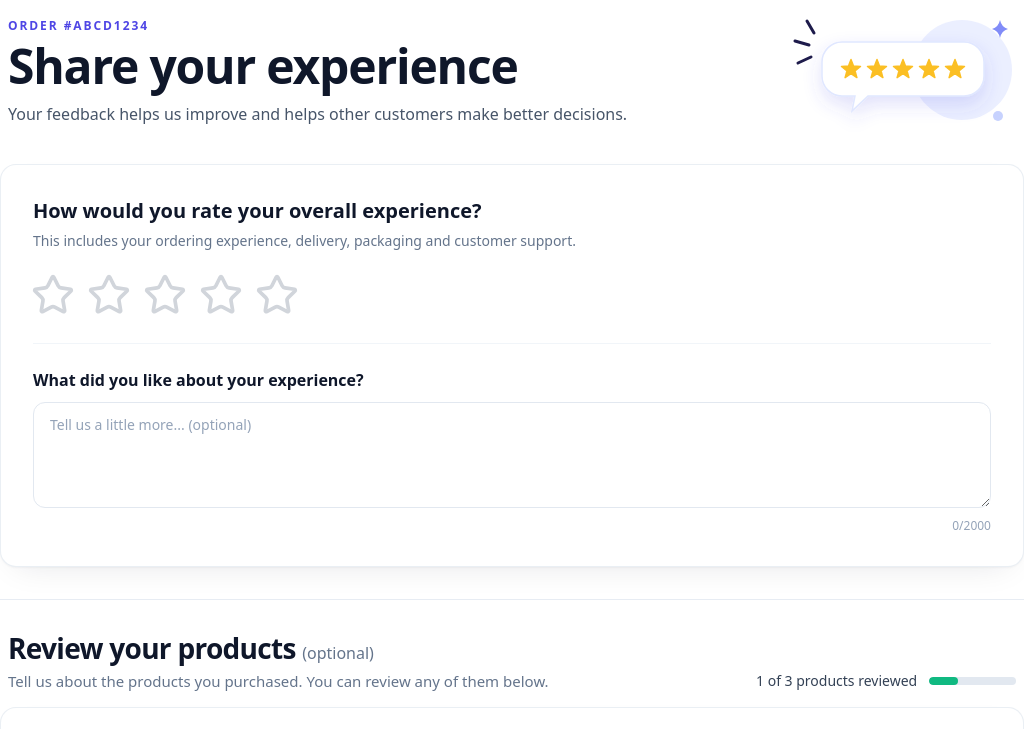
Test case: ReviewForm › offers tags that match the star rating and drops ones that no longer fit
Expected: the text "What stood out?" is not shown
Expected: the button "Fast delivery" is not shown
Click the button named "5 stars" at (277, 295), box [253,271,301,319]
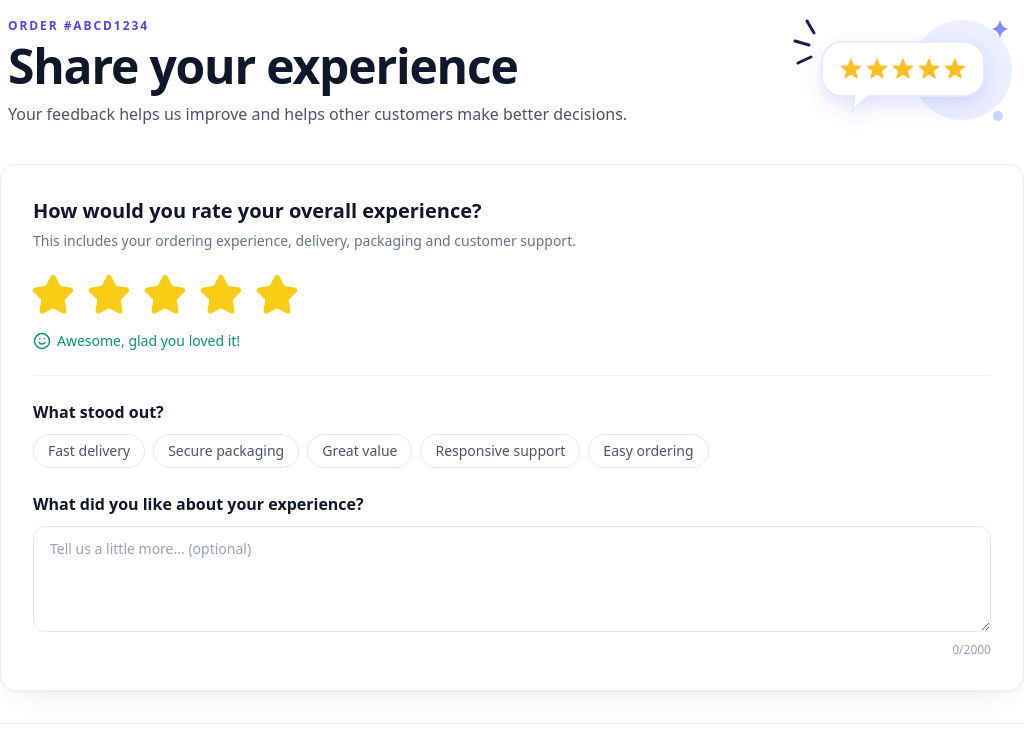
Result: the text "What stood out?" is shown at [33,401,164,423]
Click the button "Fast delivery" at (89, 451), box [33,434,145,468]
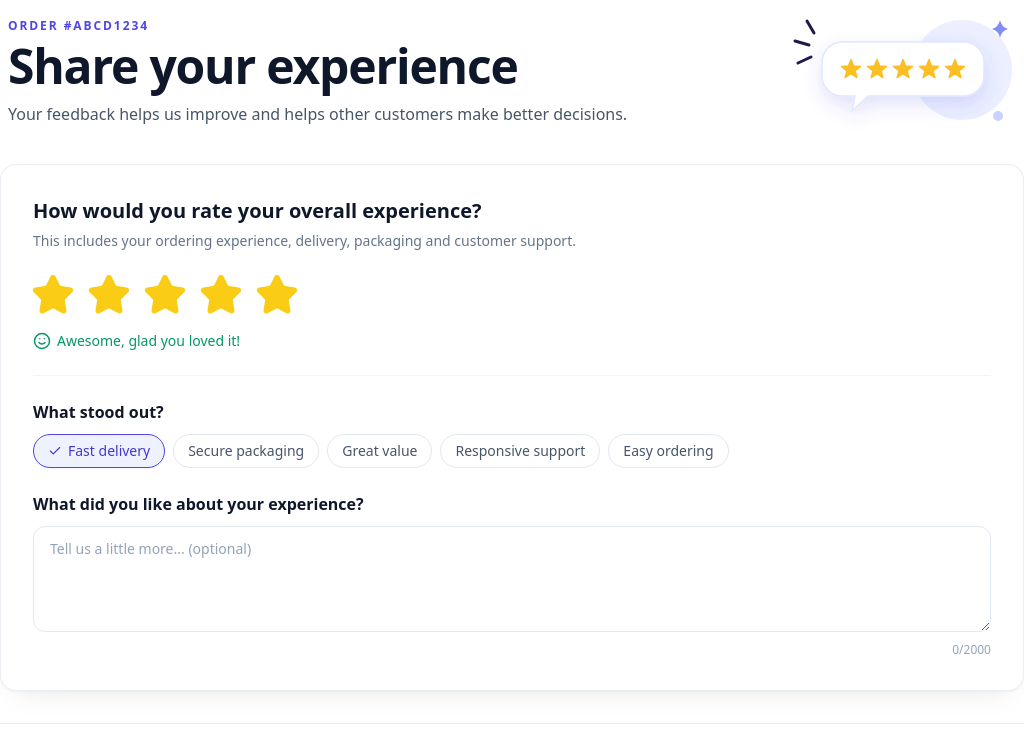
Result: the button "Fast delivery" is pressed at [33,434,165,468]
Click the button named "1 star" at (53, 295), box [29,271,77,319]
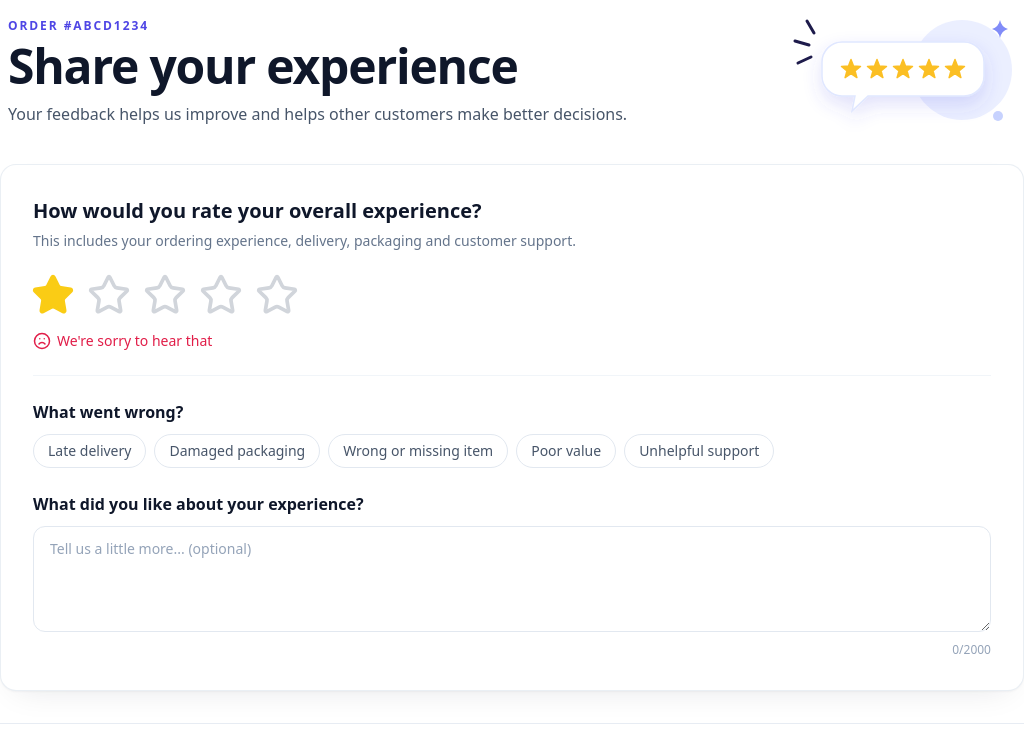
Result: the text "What went wrong?" is shown at [33,401,183,423]
Result: the button "Fast delivery" is gone
Click the button named "3 stars" at (165, 295), box [141,271,189,319]
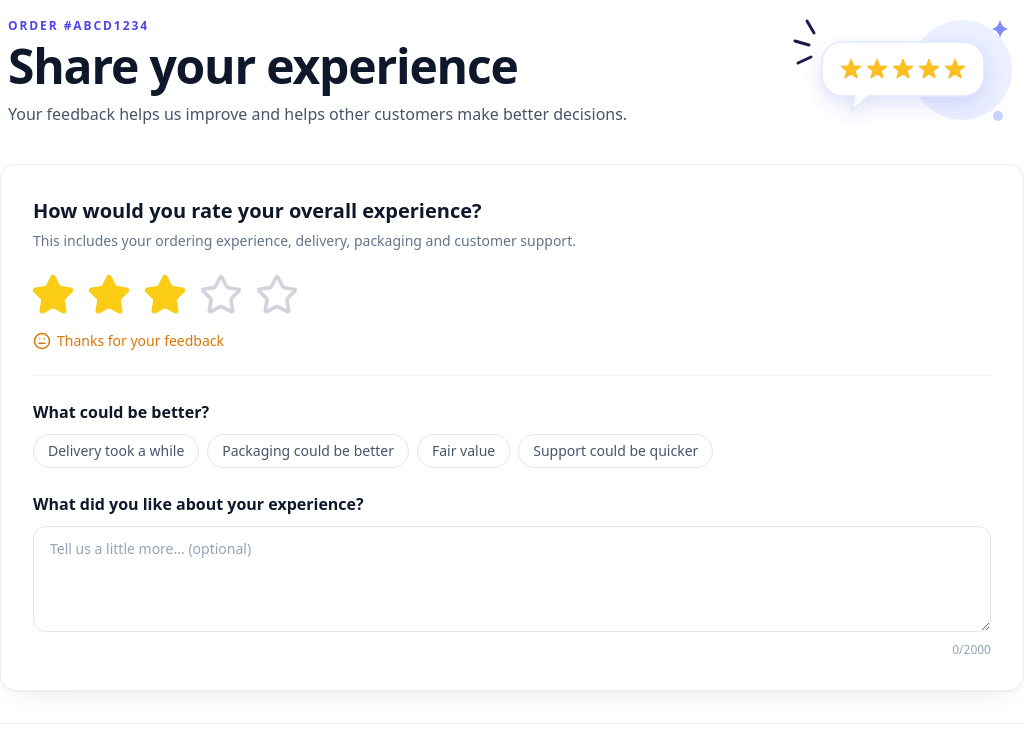
Result: the text "What could be better?" is shown at [33,401,209,423]
Result: the button "Delivery took a while" is shown at [33,434,199,468]
